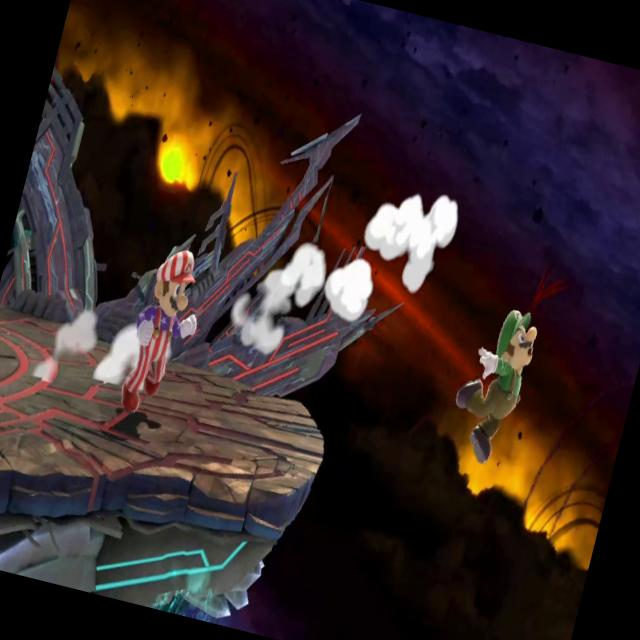Mario: (110, 232, 219, 436), (437, 292, 548, 478)
